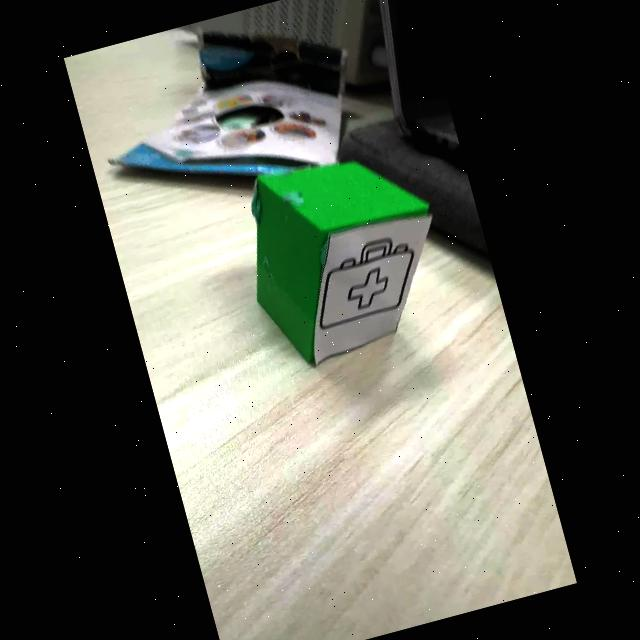Medkit: (319, 238, 414, 329)
